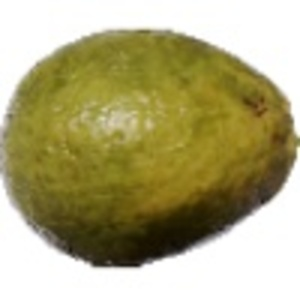goiaba: (8, 21, 281, 274)
